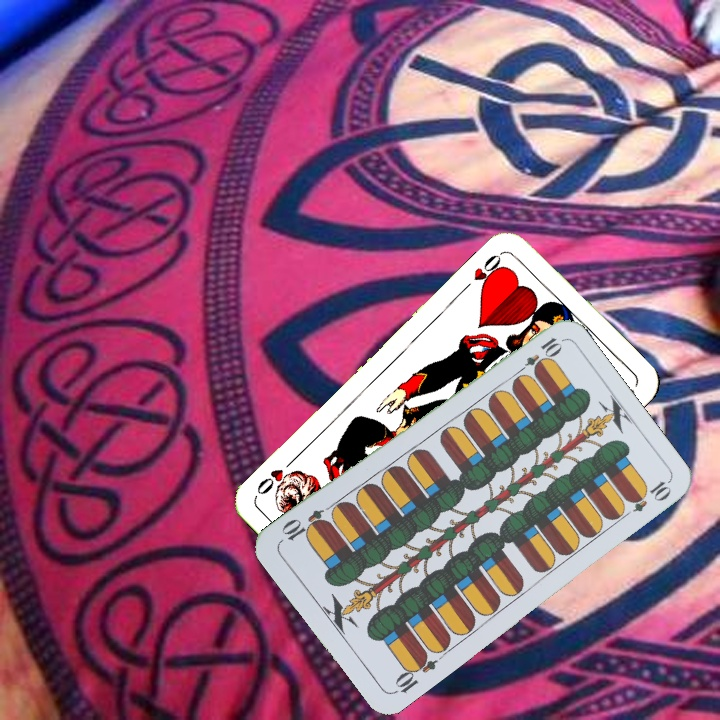E10: (389, 648, 440, 697), (512, 333, 564, 379)
HO: (469, 248, 508, 294)
